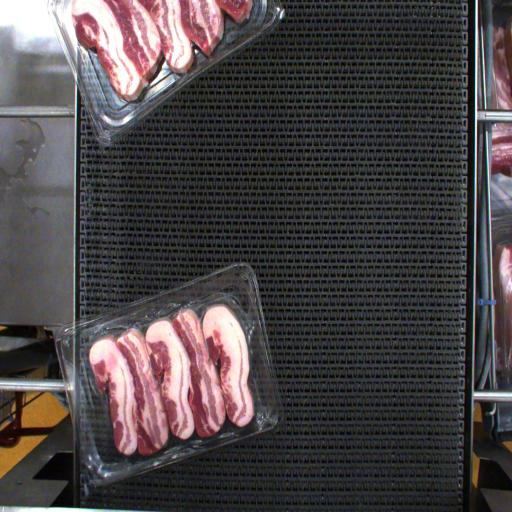unsealed: (76, 292, 260, 395)
